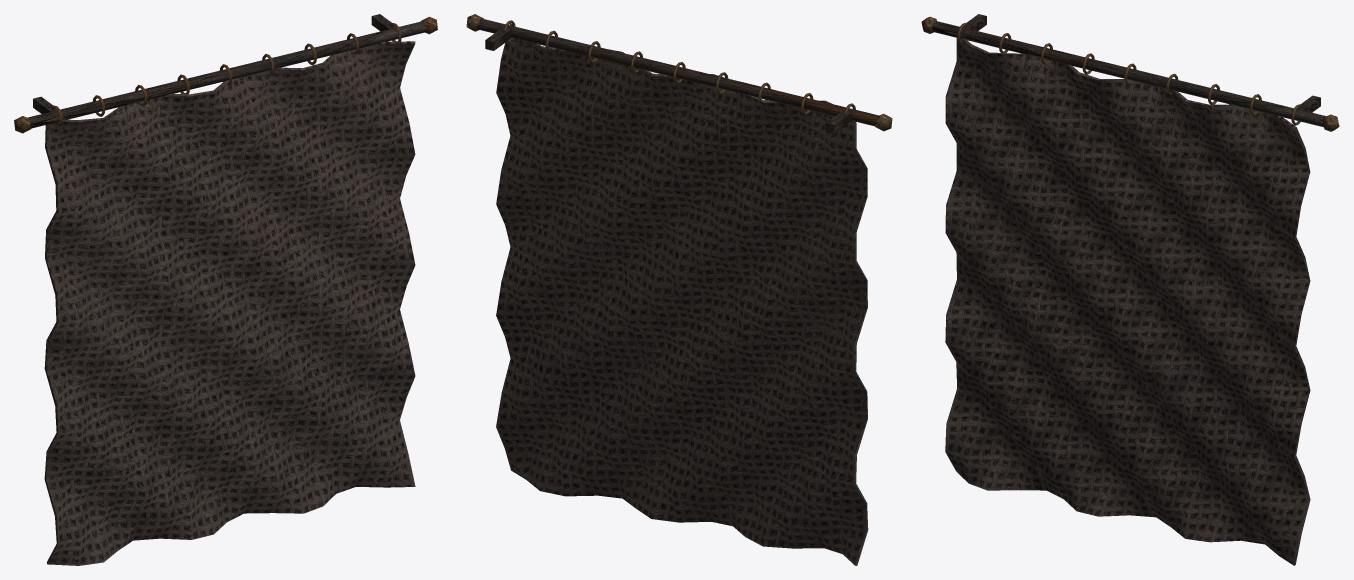
File: cloth-curtain-v01-photo.glb
3 views of the same model, side by side, from view 1: azimuth 30°, elevation 25°; view 2: azimuth 150°, elevation 25°; view 3: azimuth 330°, elevation 25° (orthographic).
Visible parts, largest first — view 1: cloth-curtain; view 2: cloth-curtain; view 3: cloth-curtain.
Boxes of the visible parts, box(x1,y1,x2,y2) form: cloth-curtain: box(14, 14, 437, 565); cloth-curtain: box(466, 14, 892, 565); cloth-curtain: box(921, 14, 1339, 565).
Size of the model in its own units: 2.49 by 2.58 by 0.32.
Materials: 3 (3 with a texture image).
